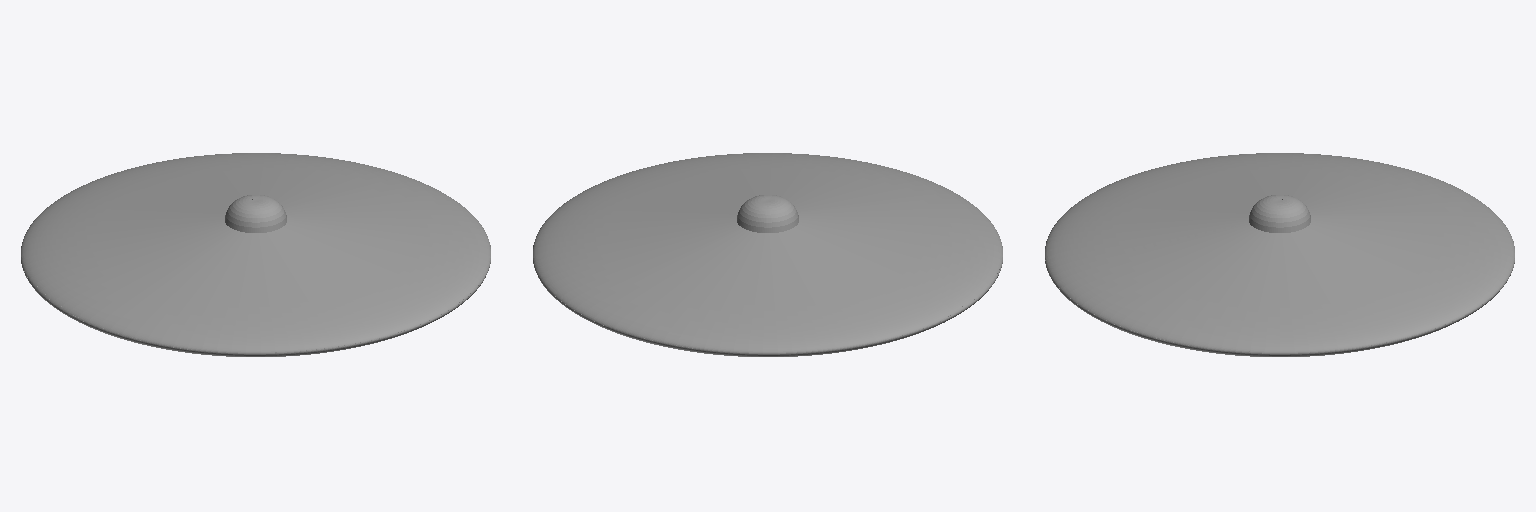
The model's file is UFOblender.obj.
3 renders of one model, left to right at view 1: azimuth 30°, elevation 25°; view 2: azimuth 150°, elevation 25°; view 3: azimuth 270°, elevation 25°, orthographic.
Visible parts, largest first — view 1: BezierCurve.002_Mesh.003; view 2: BezierCurve.002_Mesh.003; view 3: BezierCurve.002_Mesh.003.
Boxes of the visible parts, box(x1,y1,x2,y2) form: BezierCurve.002_Mesh.003: box(21, 153, 490, 356); BezierCurve.002_Mesh.003: box(533, 153, 1002, 356); BezierCurve.002_Mesh.003: box(1045, 153, 1514, 356).
Size of the model in its own units: 4.97 by 1.3 by 4.97.